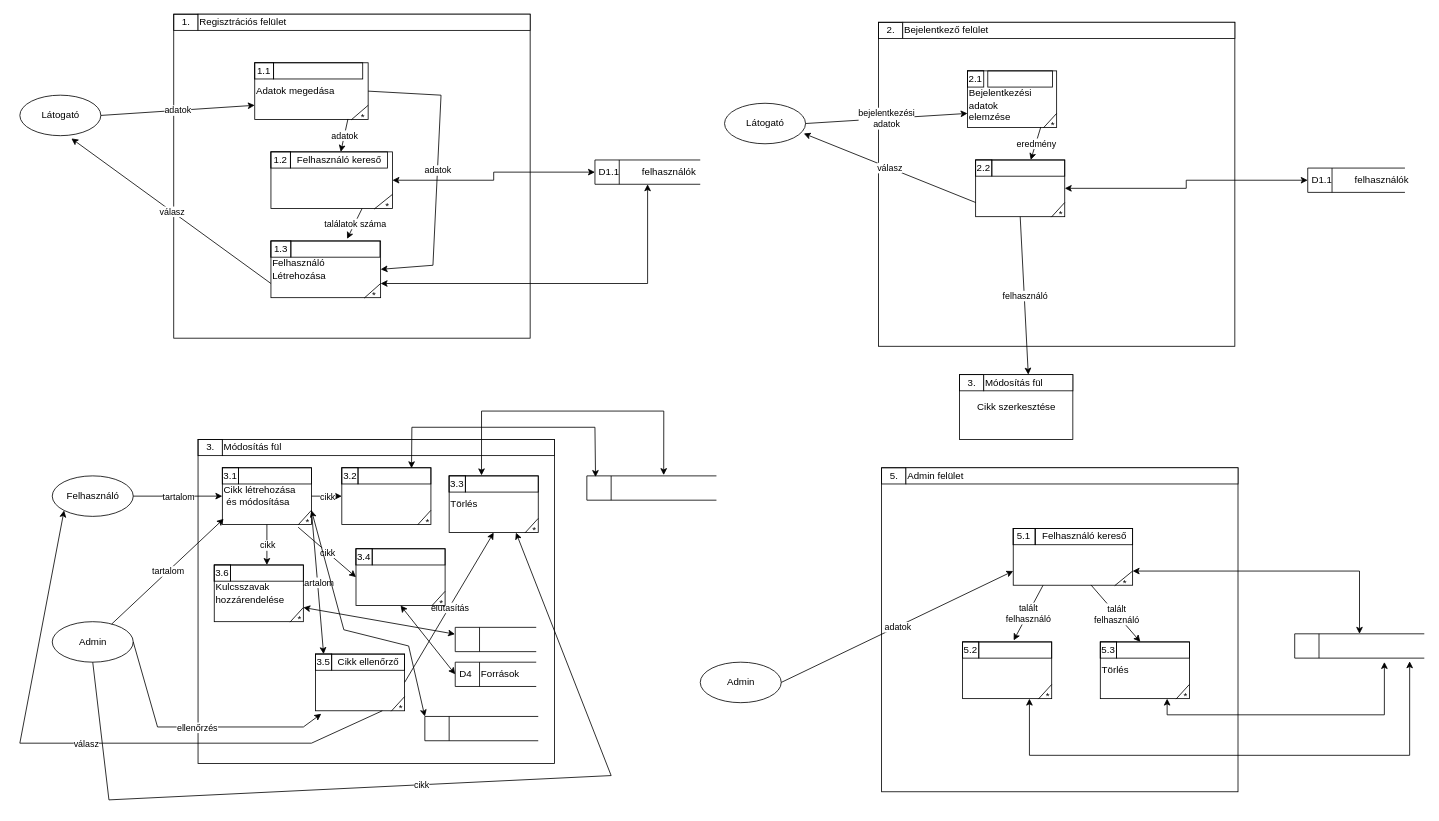
This 1439x821 diagram has some shape labels left out. The box of each missing label's shape, as (x1, y1, x2, y2) in pixels:
Adatelemző: (987, 70, 1053, 87)
Adatellenőrző: (991, 159, 1065, 176)
Adatfelviteli űrlap: (273, 62, 363, 79)
Bejegyzés készítő: (290, 240, 380, 257)
Bejelentkezési adatok ellentőrzése: (975, 159, 1065, 217)
Cikk jóváhagyása: (315, 653, 405, 711)
D1 Felhasználók: (1294, 633, 1424, 658)
D2 Cikkek: (586, 475, 716, 500)
D3 Kulcsszavak: (454, 627, 536, 652)
D5 Szerzők: (424, 716, 538, 741)
Felhasználó keresése: (270, 151, 392, 209)
Felhasználó módosítása: (962, 641, 1052, 699)
Felhasználók keresés: (1012, 528, 1133, 585)
Forrás feltüntetése: (355, 548, 445, 605)
Témakörök, altémakörök kezelése: (341, 467, 431, 524)
